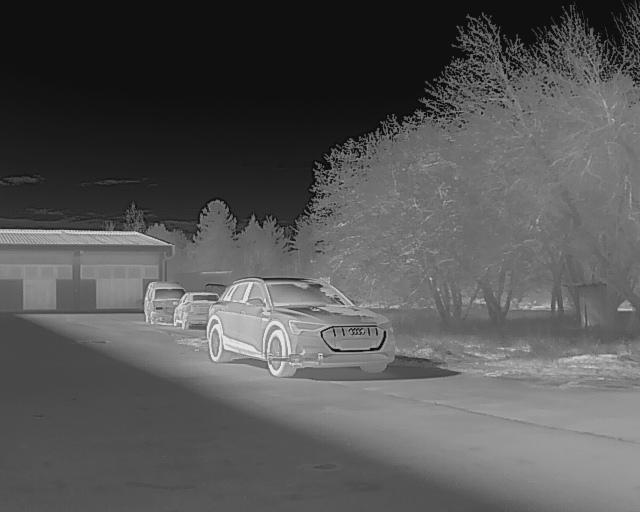drone: (260, 344, 327, 383)
